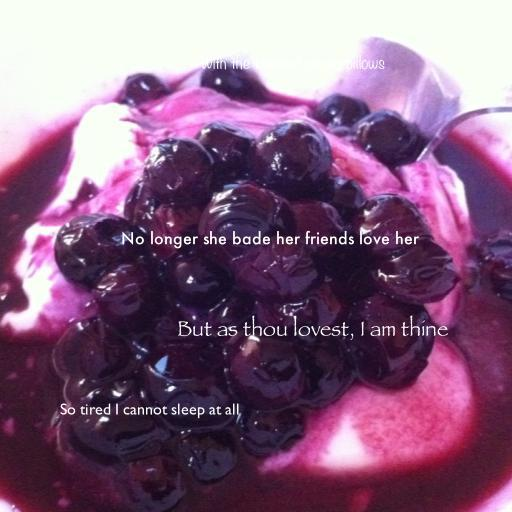Futura: (121, 230, 419, 249)
Gill Sans: (60, 403, 240, 419)
Noteworthy: (201, 54, 385, 70)
Papyrus: (176, 315, 448, 340)
